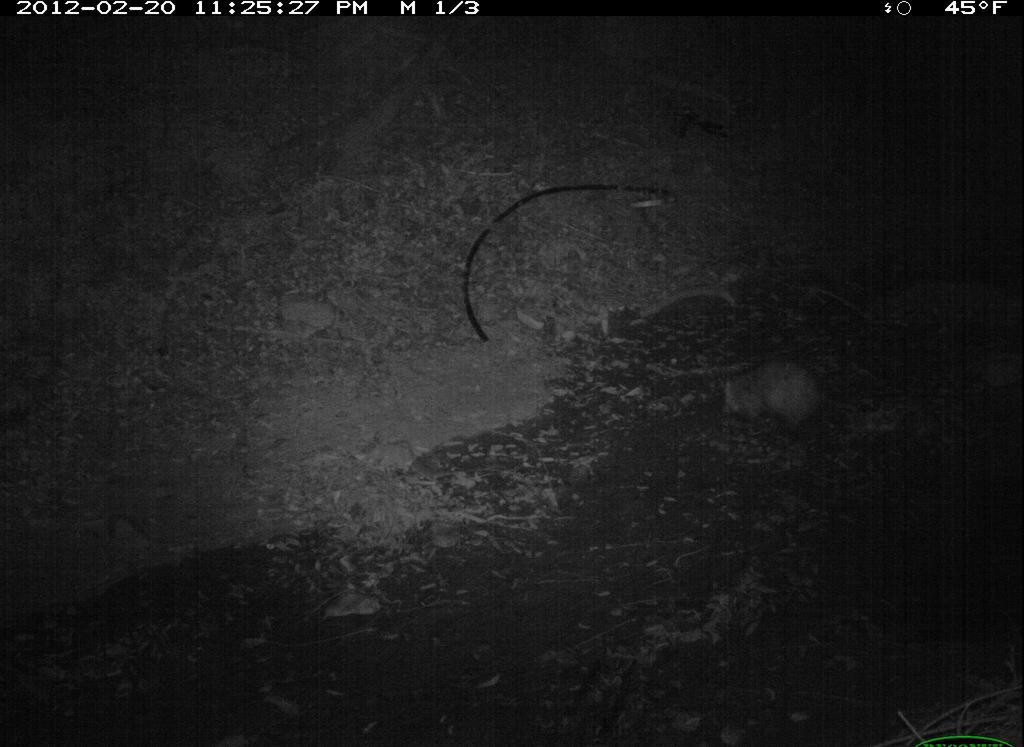opossum: (716, 355, 845, 443)
